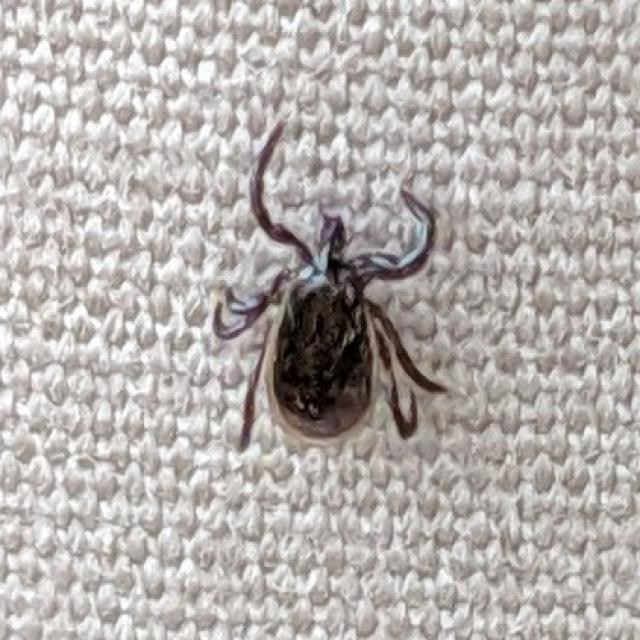Ixodes Ricinus-M: (203, 119, 447, 458)
